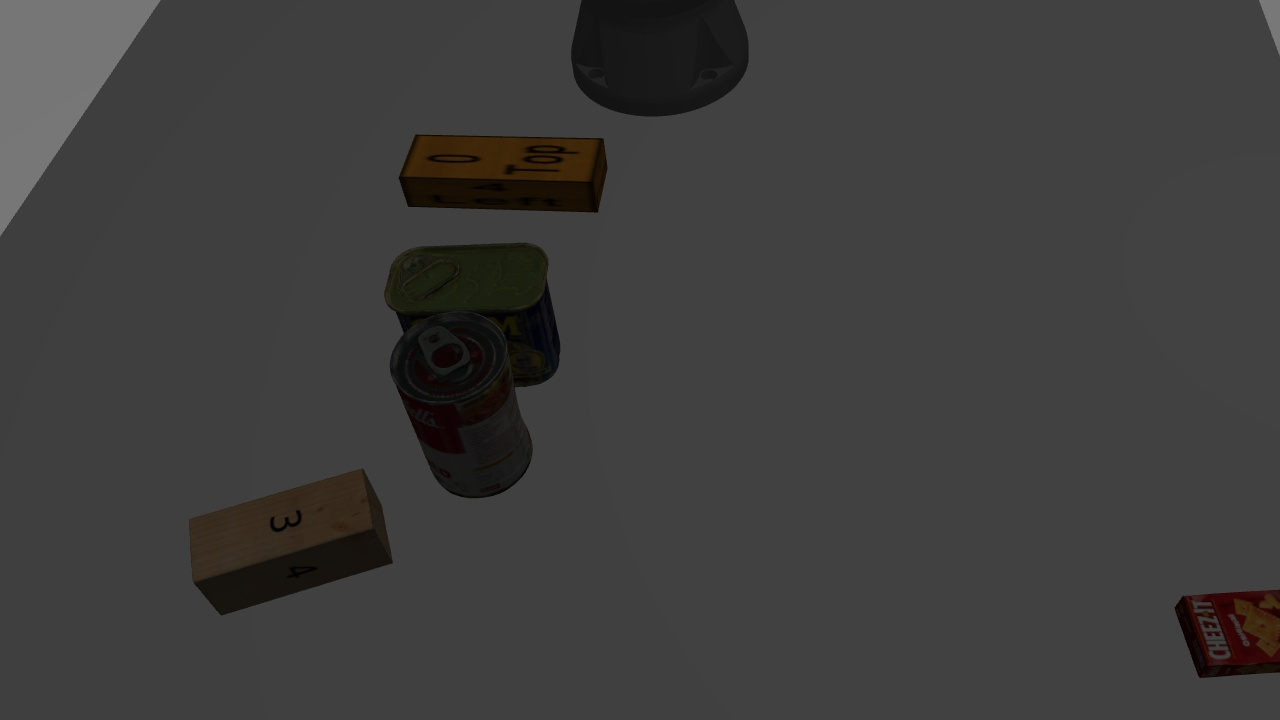jenga: (392, 125, 620, 229)
potted_meat_can: (380, 235, 573, 391)
tomato_soup_can: (385, 307, 545, 497)
wood_block: (171, 468, 396, 622)
